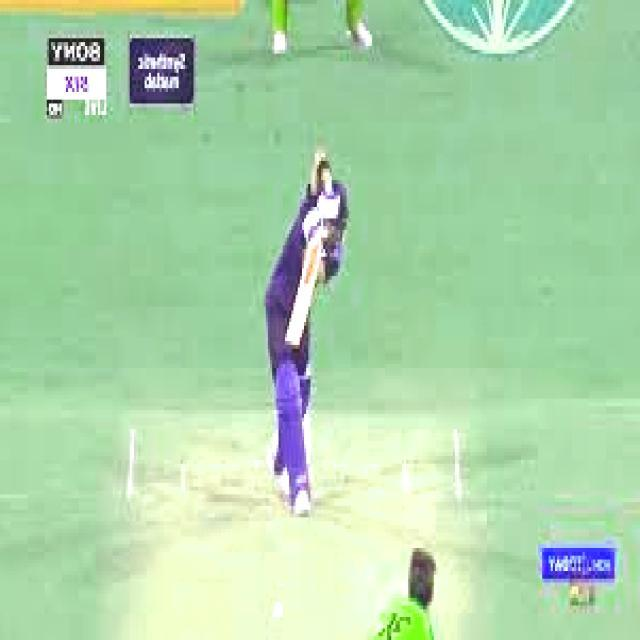bat: (284, 230, 318, 355)
toe: (282, 338, 302, 348)
